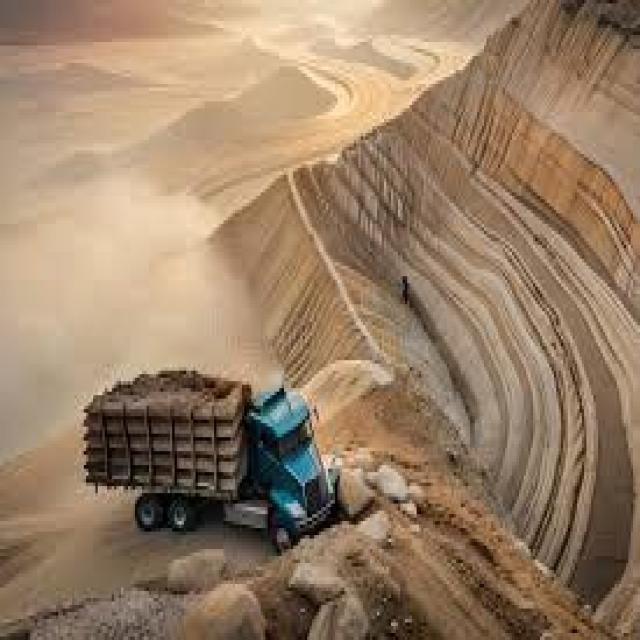truck: (78, 356, 340, 550)
